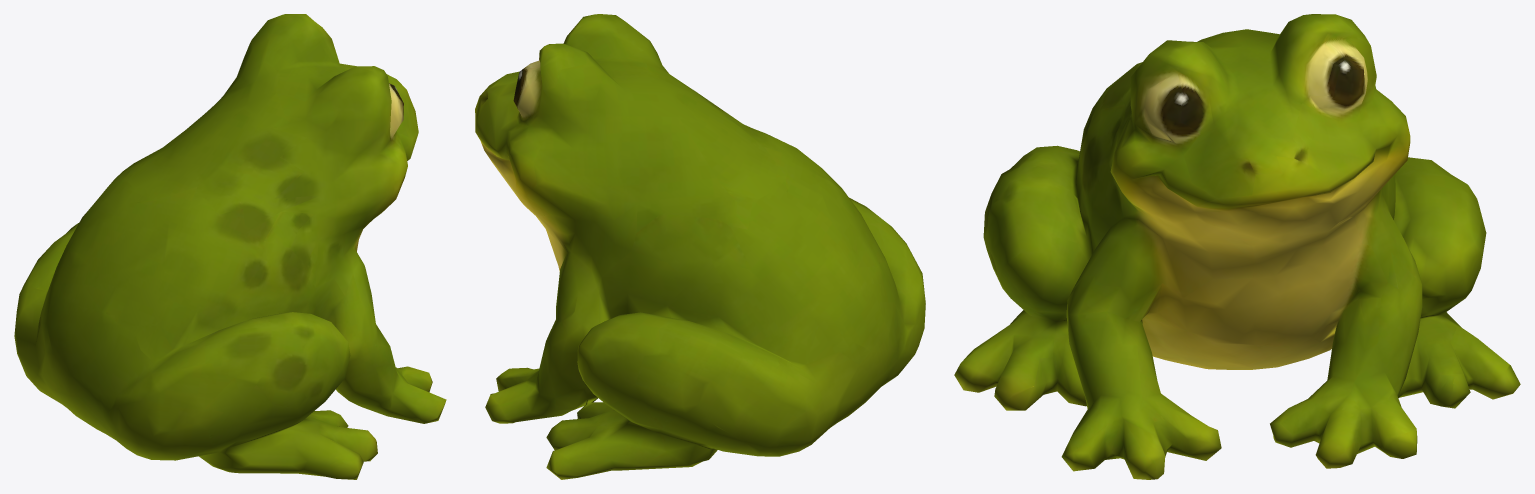
Rendered from frog.glb.
The picture shows the model from 3 angles, left to right: view 1: azimuth 30°, elevation 25°; view 2: azimuth 150°, elevation 25°; view 3: azimuth 270°, elevation 25°; orthographic projection. The views are drawn at different scales.
Visible parts, largest first — view 1: body-mesh; view 2: body-mesh; view 3: body-mesh.
Boxes of the visible parts, <box> form: body-mesh: <box>14,14,446,479</box>; body-mesh: <box>475,14,925,479</box>; body-mesh: <box>954,14,1520,479</box>.
Size of the model in its own units: 0.9293 by 0.8334 by 1.
1 material, 1 textured.
